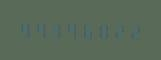four: (33, 19, 48, 39), (65, 19, 80, 39)
nine: (17, 18, 32, 39)
six: (81, 20, 96, 40)
three: (49, 19, 64, 39)
two: (129, 20, 144, 41), (113, 20, 128, 40)
zero: (97, 20, 112, 40)
